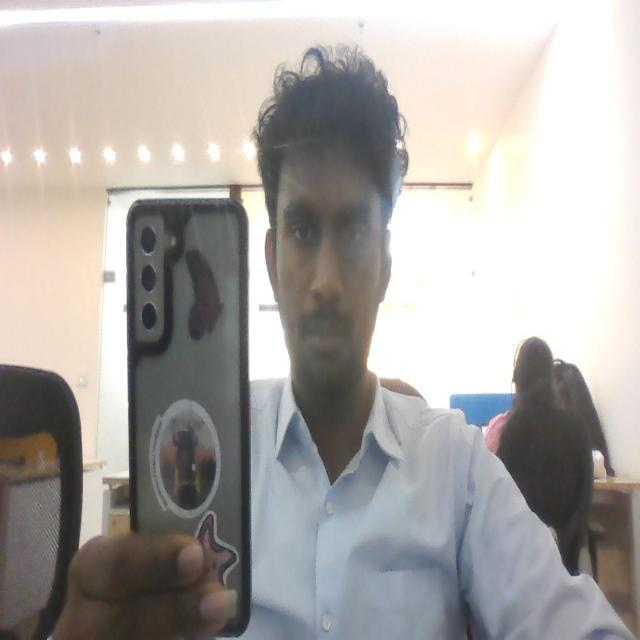phone: (126, 197, 250, 519)
